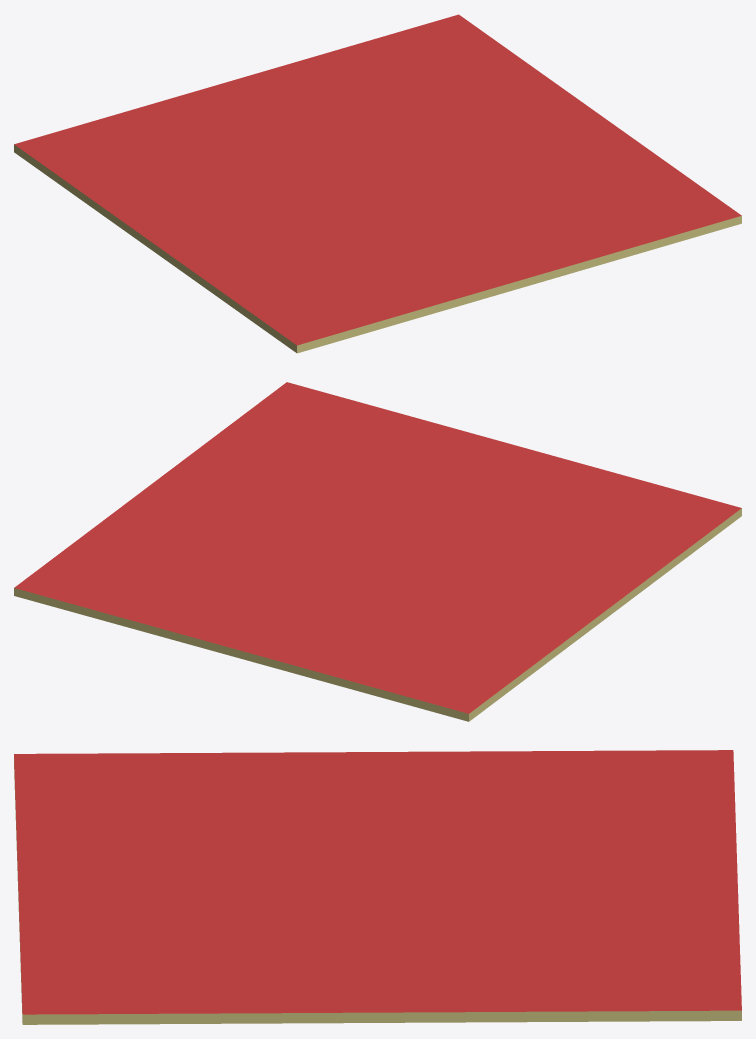
The picture shows the model from 3 angles, top to bottom: view 1: azimuth 30°, elevation 25°; view 2: azimuth 150°, elevation 25°; view 3: azimuth 270°, elevation 25°; orthographic projection. The views are drawn at different scales.
Bounding box in the file's own units: 5.97 × 6.38 × 0.327.
